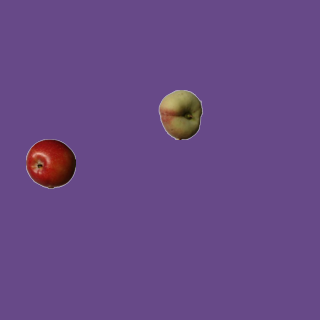Apple Braeburn: (25, 138, 75, 188)
Peach Flat: (155, 89, 205, 139)
